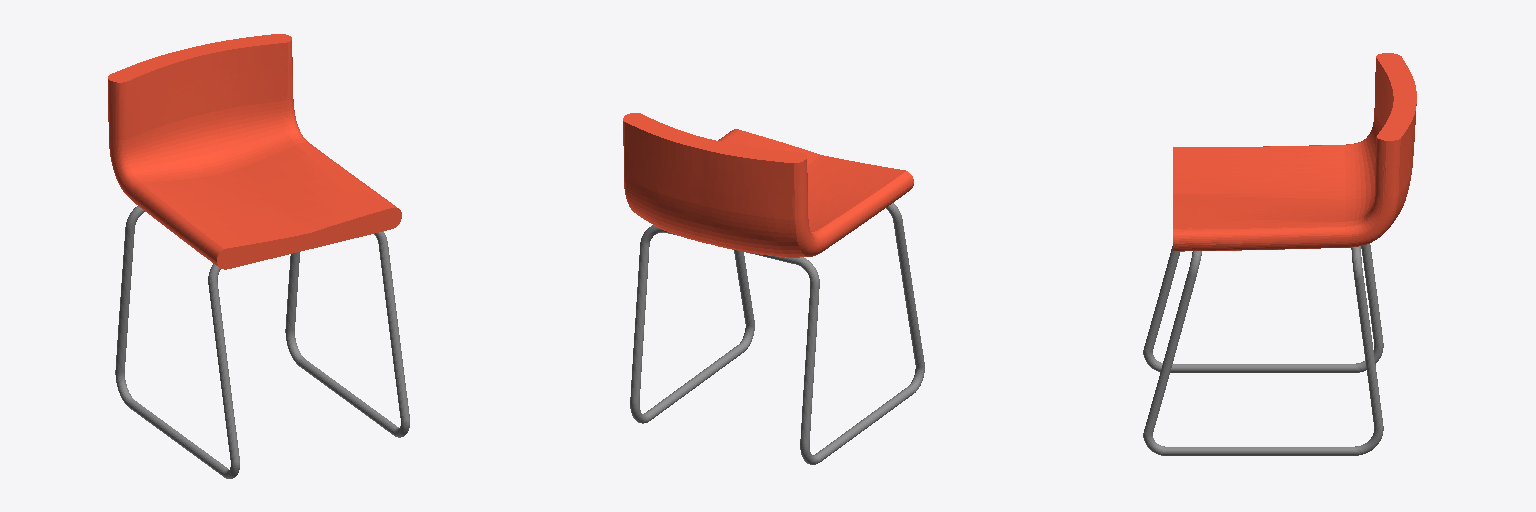
The model's file is IKE160087.obj.
The picture shows the model from 3 angles: view 1: azimuth 30°, elevation 25°; view 2: azimuth 150°, elevation 25°; view 3: azimuth 270°, elevation 25°; orthographic projection.
Visible parts, largest first — view 1: Loft001, Loft004, Loft005, Loft003, Loft002; view 2: Loft001, Loft002, Loft003, Loft005, Loft004; view 3: Loft001, Loft005, Loft003, Loft002, Loft004.
Part boxes in pixels (bbox=[...]): Loft001: bbox=[108, 34, 401, 269]; Loft004: bbox=[208, 231, 402, 409]; Loft005: bbox=[285, 289, 409, 437]; Loft003: bbox=[115, 332, 239, 478]; Loft002: bbox=[118, 206, 299, 333]; Loft001: bbox=[623, 113, 913, 257]; Loft002: bbox=[633, 225, 819, 400]; Loft003: bbox=[800, 323, 924, 464]; Loft005: bbox=[630, 282, 754, 423]; Loft004: bbox=[734, 203, 917, 324]; Loft001: bbox=[1173, 53, 1416, 251]; Loft005: bbox=[1143, 385, 1383, 455]; Loft003: bbox=[1143, 301, 1383, 372]; Loft002: bbox=[1351, 244, 1377, 386]; Loft004: bbox=[1157, 246, 1201, 387].
Bounding box in the file's own units: 451 × 739 × 577.